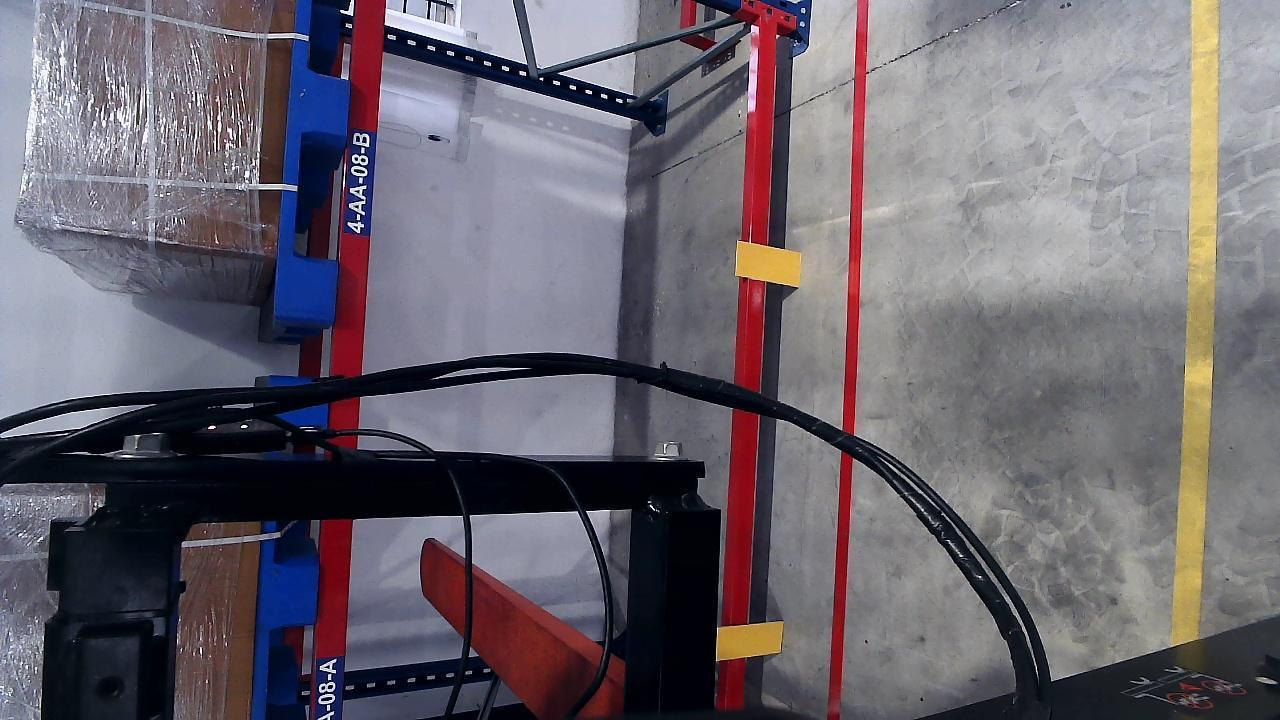red_line: (839, 0, 868, 662)
yellow_line: (1170, 23, 1220, 628)
